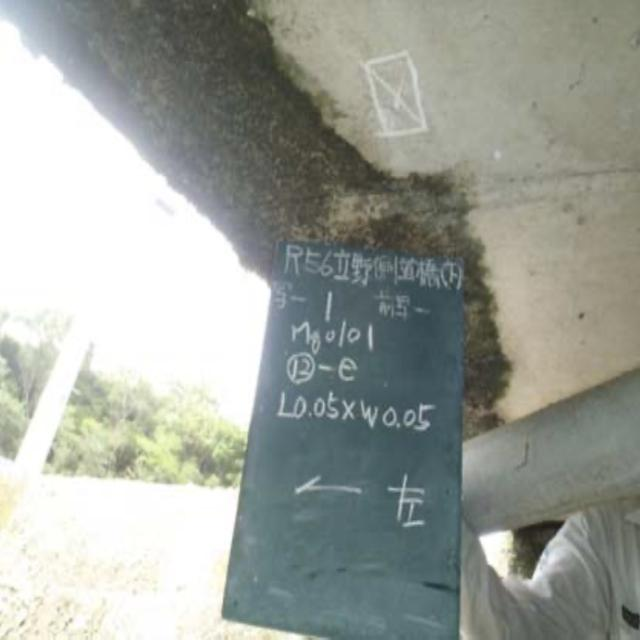leakage: (31, 11, 480, 256)
